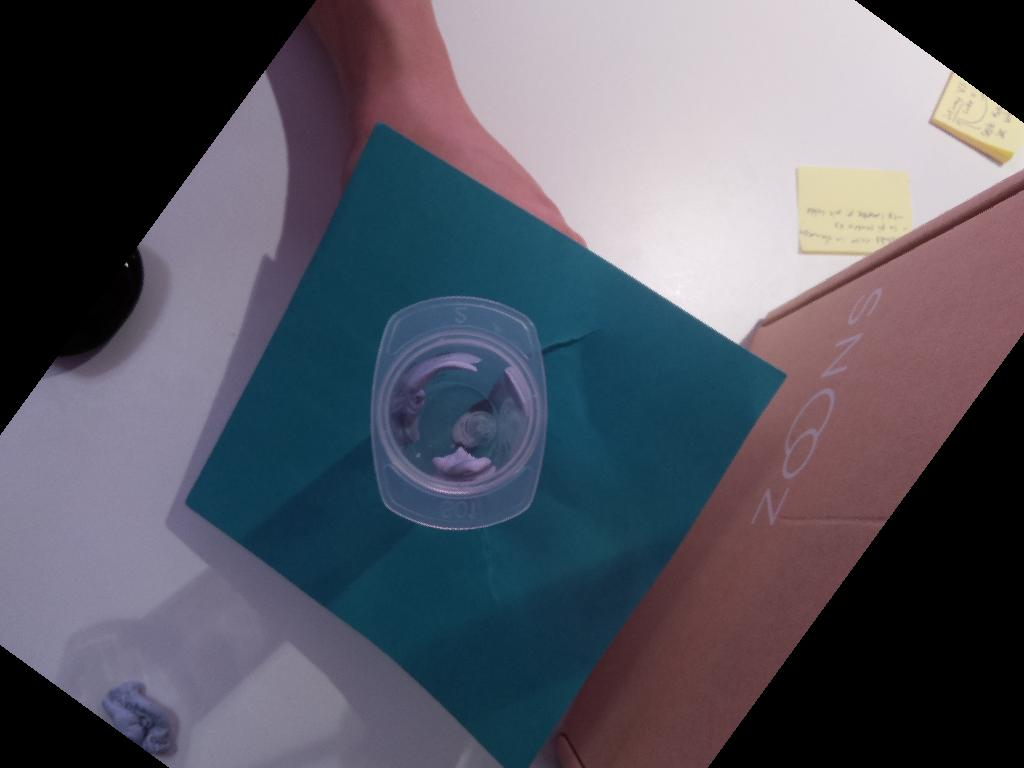dirty: (367, 293, 547, 529)
